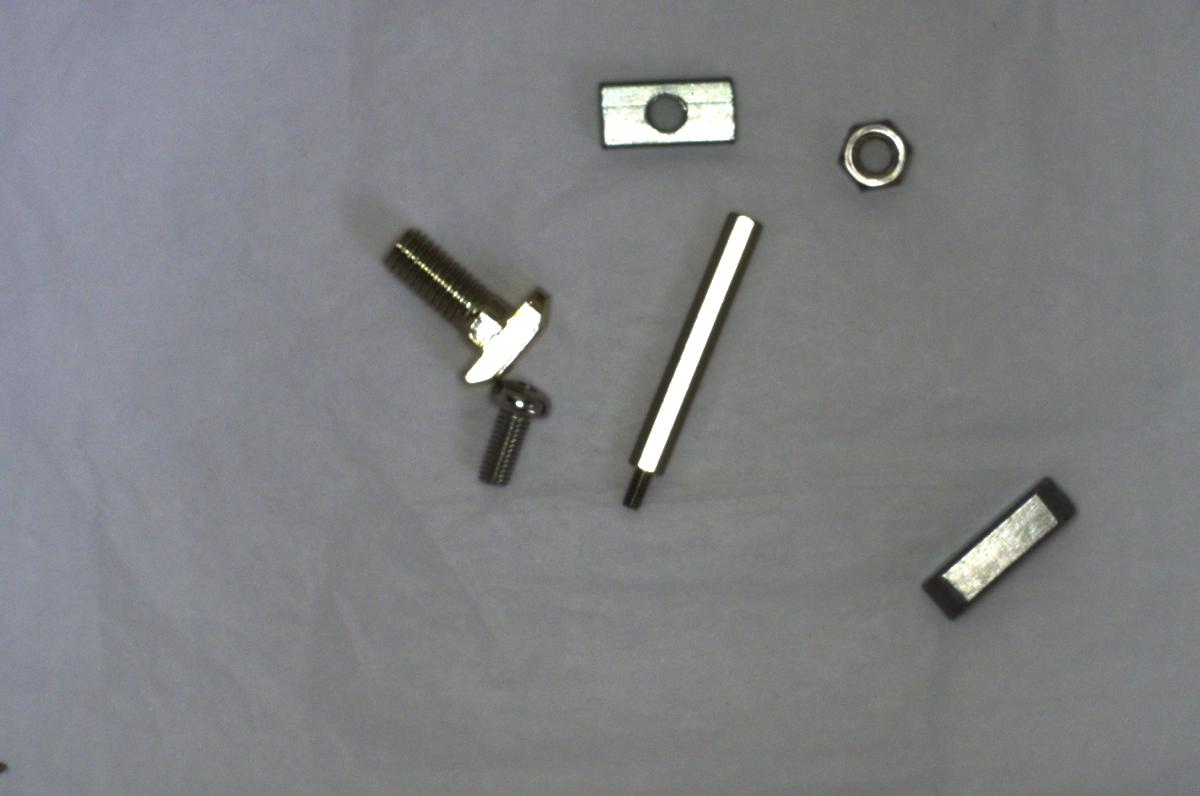Hexagon nut: (830, 106, 918, 196)
Hexagonal steel column: (607, 203, 767, 514)
Keybar: (910, 466, 1079, 619)
Rectangular nut: (587, 68, 748, 155)
Round head screw: (461, 379, 561, 490)
T-shaped screw: (377, 219, 548, 379)
